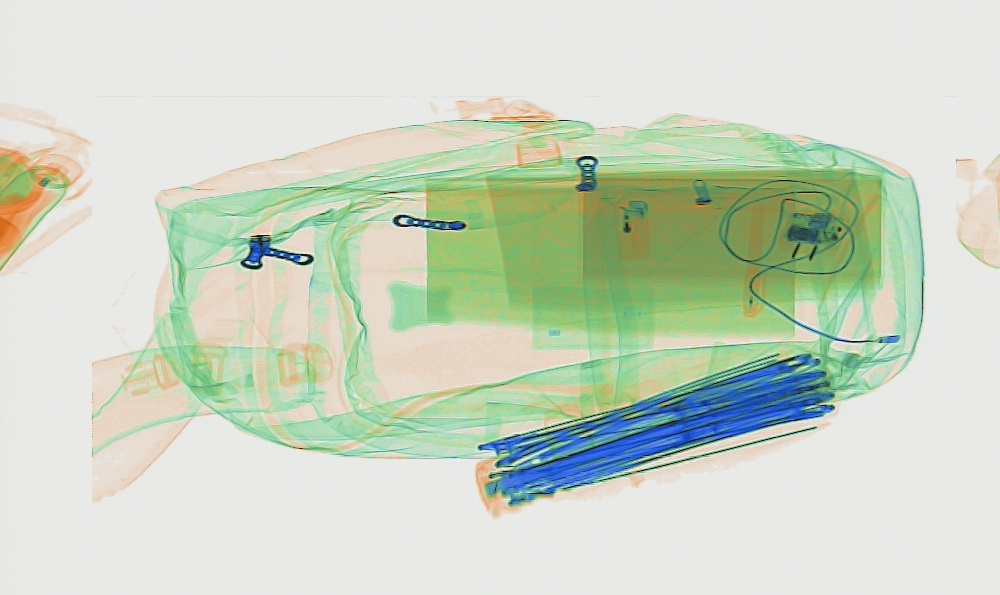lighter: (619, 195, 648, 264)
